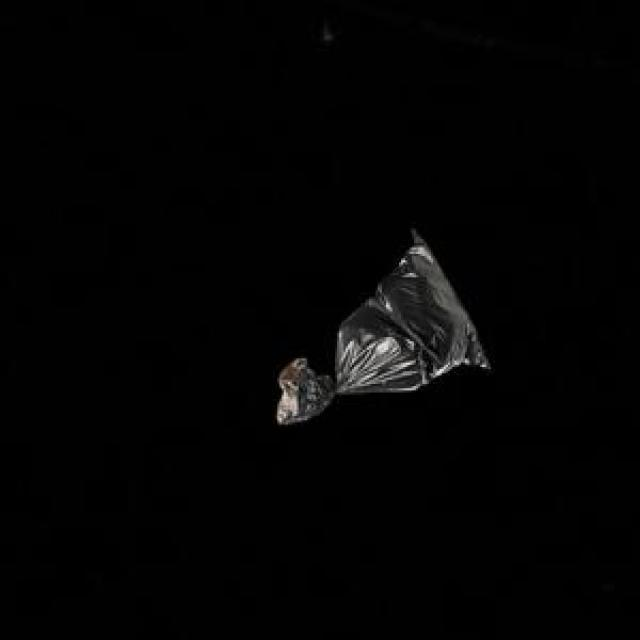miscellaneous trash: (273, 226, 486, 420)
